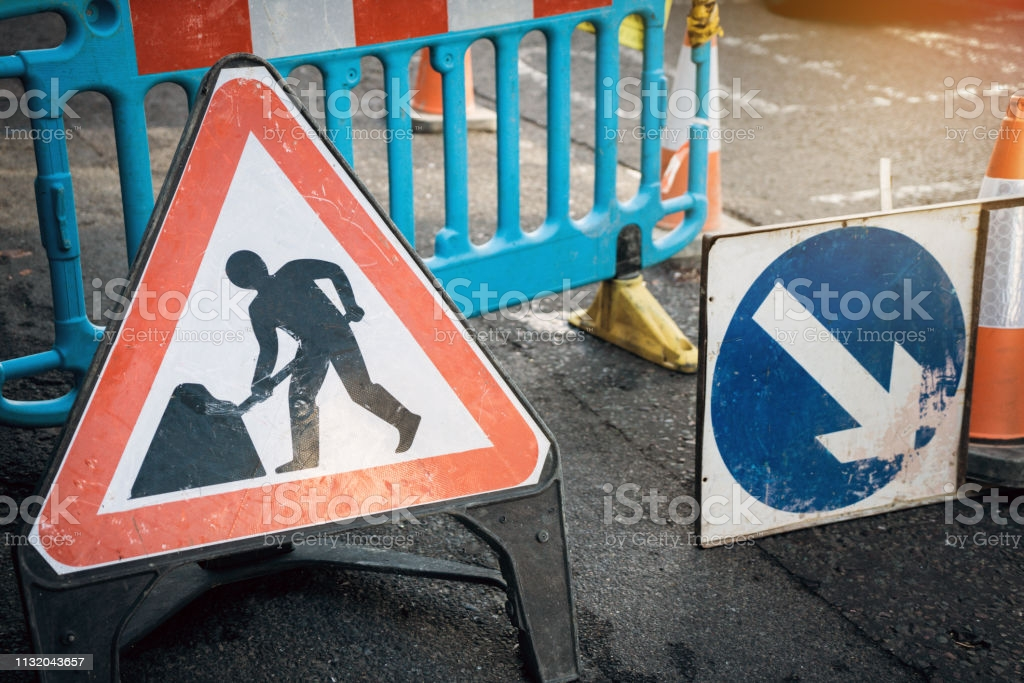caution: (31, 55, 553, 544)
